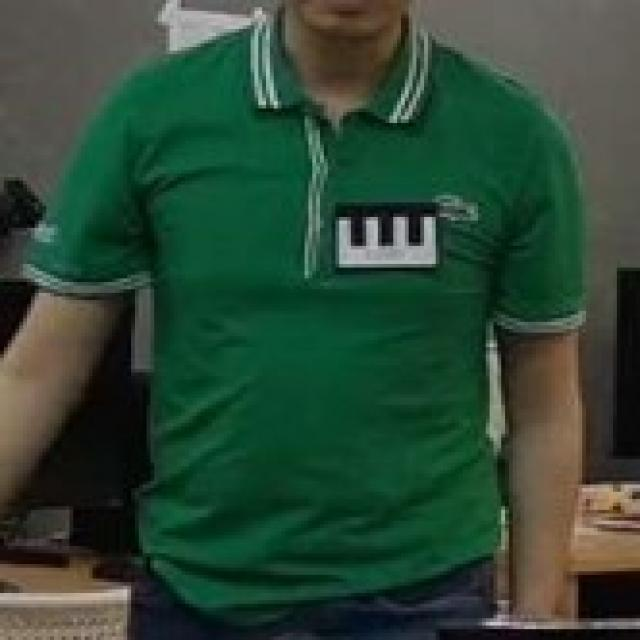work-tag: (335, 202, 440, 271)
